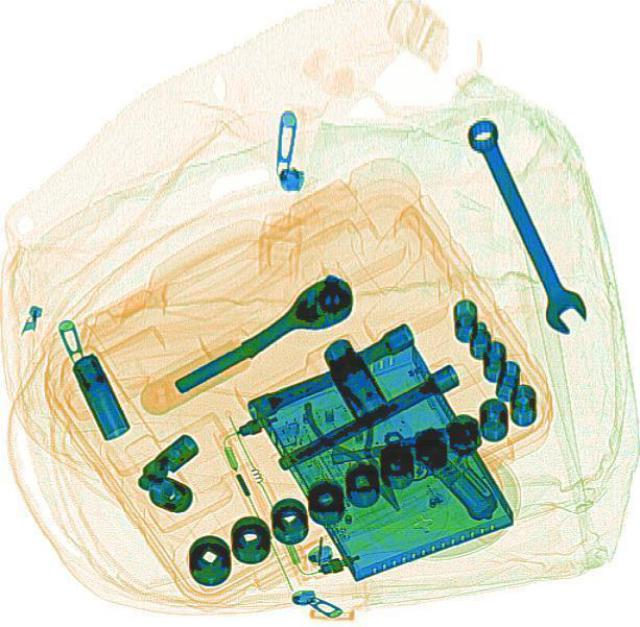Gun: (326, 420, 502, 542)
Pliers: (294, 378, 426, 524)
Wrench: (456, 112, 594, 337)
